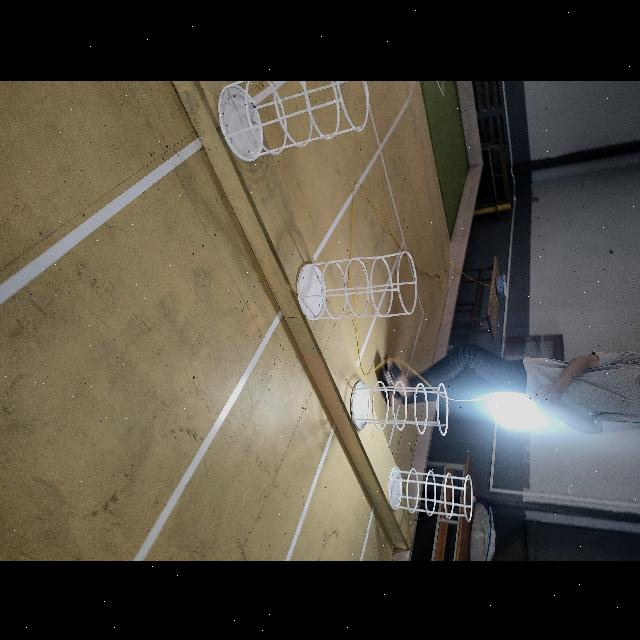S: (215, 80, 373, 161), (294, 248, 419, 321), (347, 377, 451, 435), (387, 466, 475, 523)
